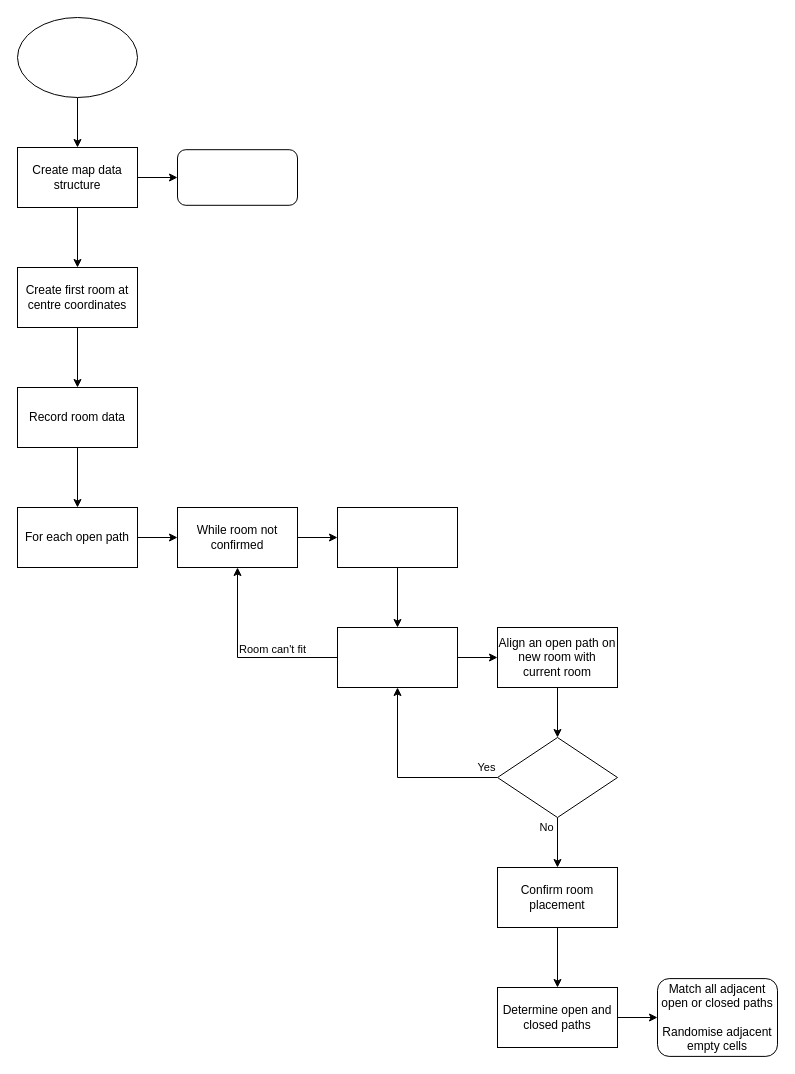
The diagram is 795 pixels wide and 1074 high, and some of its shapes have lost their labels. Here are the shapes that lost their labels. From the top down, the box of each, then its label:
(16, 16, 138, 98): Level Generation Start
(176, 149, 298, 205): Occupied coordinates Open paths
(336, 506, 458, 568): Select room template
(336, 626, 458, 688): While orientations not exhausted
(496, 736, 618, 818): Any collisions?
